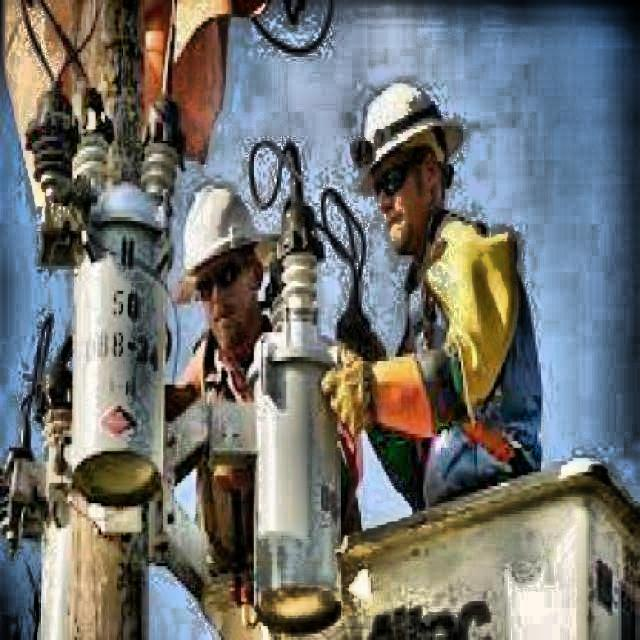safety_jacket: (391, 219, 549, 485)
